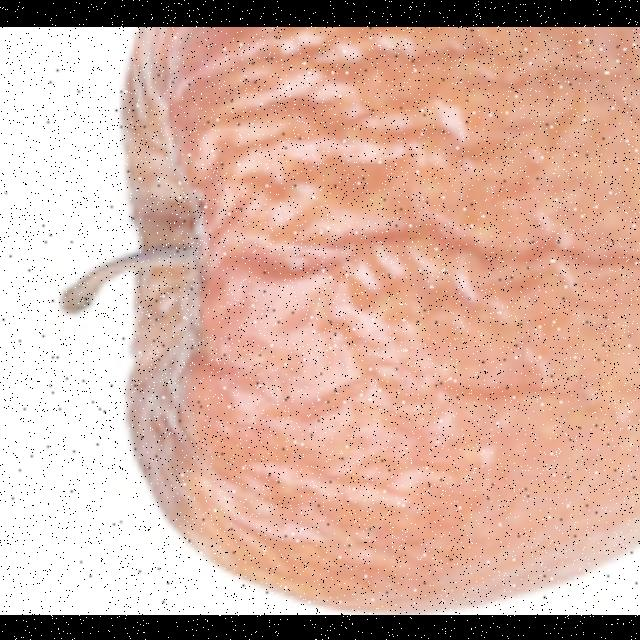Apel Tidak Segar: (110, 26, 640, 614)
